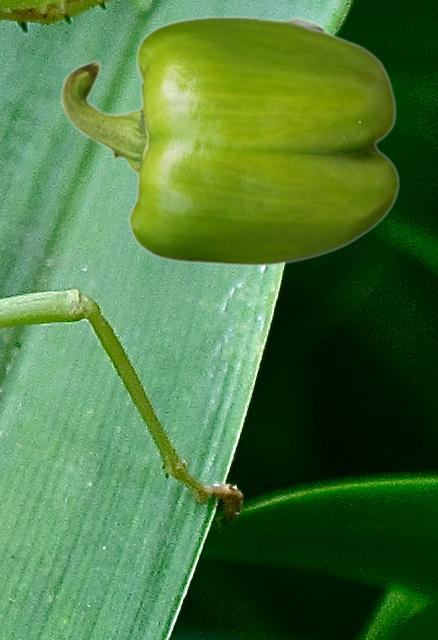bell_pepper: (60, 15, 399, 266)
